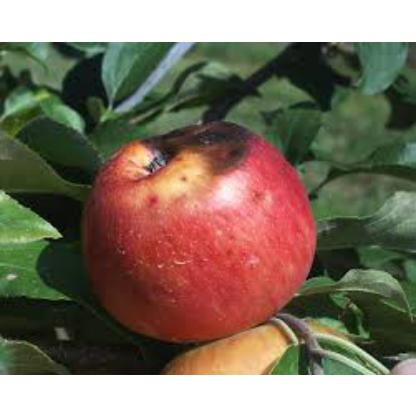apple: (84, 131, 308, 334)
